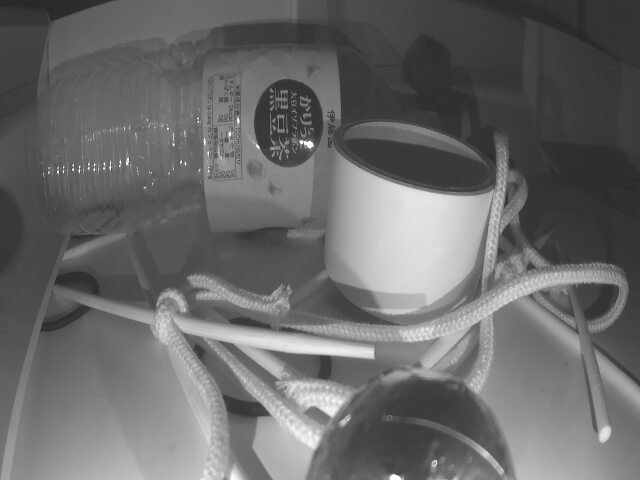Live: (296, 361, 513, 480)
